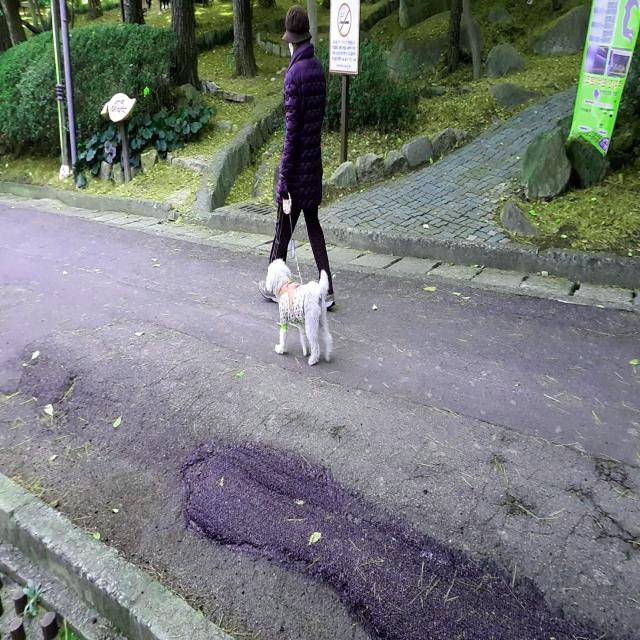Leashed_Dog: (265, 174, 335, 365)
